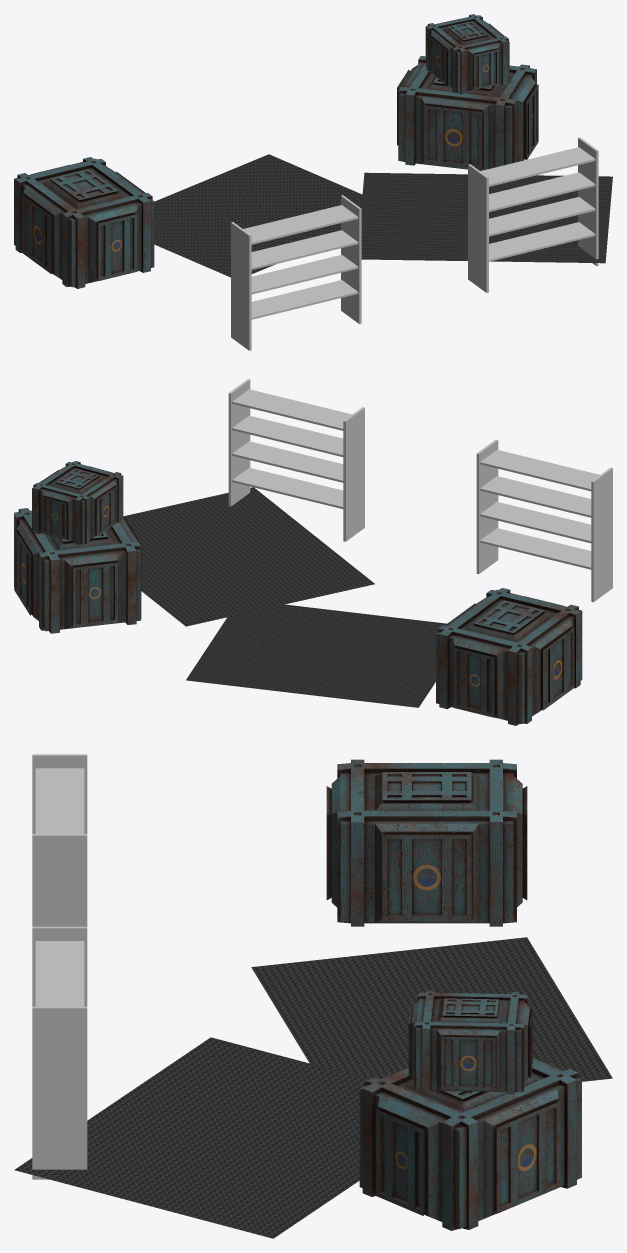
Rendered from Equipment.fbx.
3 views of the same model, one above another, from view 1: azimuth 30°, elevation 25°; view 2: azimuth 150°, elevation 25°; view 3: azimuth 270°, elevation 25° (orthographic). The views are drawn at different scales.
Parts seen in each view (by area): view 1: Cube.090, Plane.008, Cube.096, Cube.095; view 2: Plane.008, Cube.090, Cube.096, Cube.095; view 3: Cube.090, Plane.008, Cube.095, Cube.096.
Part boxes in pixels (bbox=[...]): Cube.090: bbox=[14, 14, 538, 288]; Plane.008: bbox=[154, 154, 612, 277]; Cube.096: bbox=[231, 195, 361, 350]; Cube.095: bbox=[468, 137, 598, 292]; Plane.008: bbox=[123, 487, 446, 707]; Cube.090: bbox=[14, 461, 582, 725]; Cube.096: bbox=[476, 439, 612, 602]; Cube.095: bbox=[228, 379, 364, 541]; Cube.090: bbox=[326, 759, 581, 1230]; Plane.008: bbox=[14, 937, 612, 1238]; Cube.095: bbox=[32, 926, 87, 1179]; Cube.096: bbox=[32, 754, 87, 926].
Size of the model in its own units: 1042 by 234 by 691.
